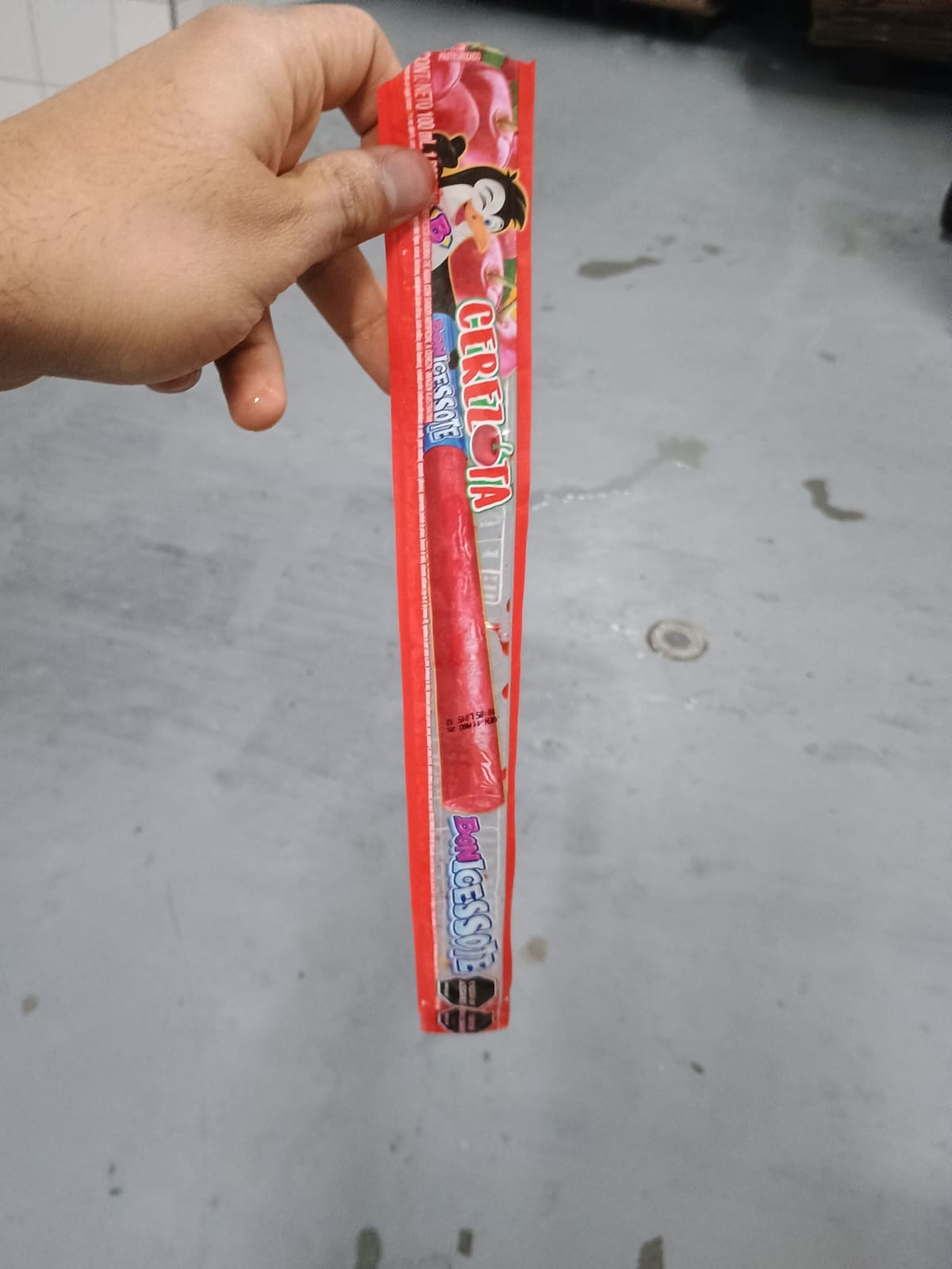Ordinario: (381, 44, 538, 1037)
